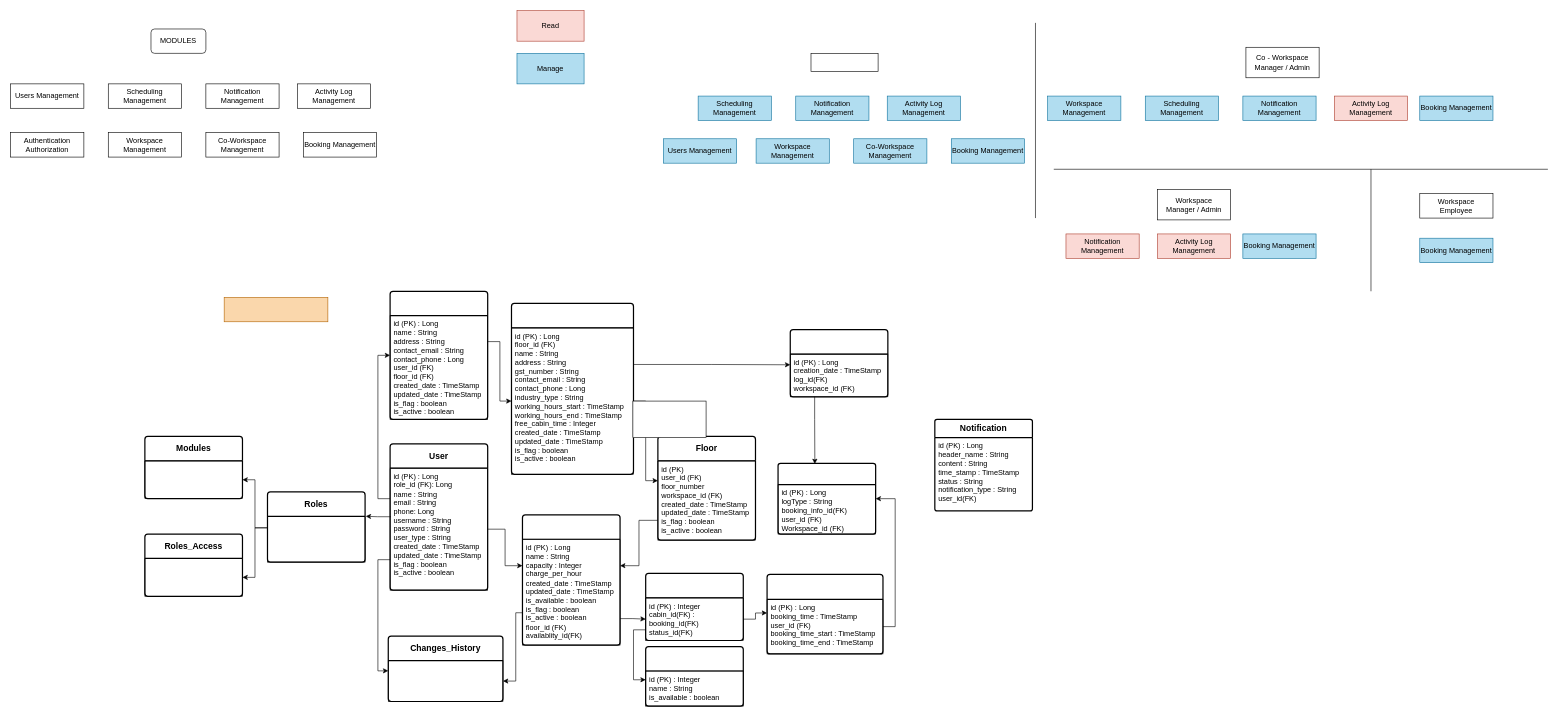
The diagram is 1559 pixels wide and 717 high, and some of its shapes have lost their labels. The box of each missing label's shape, as (x1, y1, x2, y2) in pixels:
Activity_Logs: (777, 462, 876, 534)
Availablity: (645, 572, 744, 641)
Booking_Info: (766, 573, 883, 654)
Cabins: (522, 514, 620, 645)
Co- Workspace: (389, 290, 488, 420)
Co-Workspace : Landmark Workspace : Krenai: (224, 297, 328, 322)
id (PK) : Integer module_id (FK) role_id (FK): (144, 558, 242, 596)
id (PK) : Integer module_name : String access_level : Integer: (144, 460, 242, 499)
id (PK) : Integer name : String default_role : String: (267, 516, 365, 562)
id (PK) created_by (FK) updated_by (FK) changes_done_at : TimeStamp: (388, 660, 503, 702)
Invoice: (789, 329, 888, 397)
Status: (645, 646, 744, 706)
Super - Admin: (810, 53, 878, 72)
Workspace: (511, 303, 634, 475)
